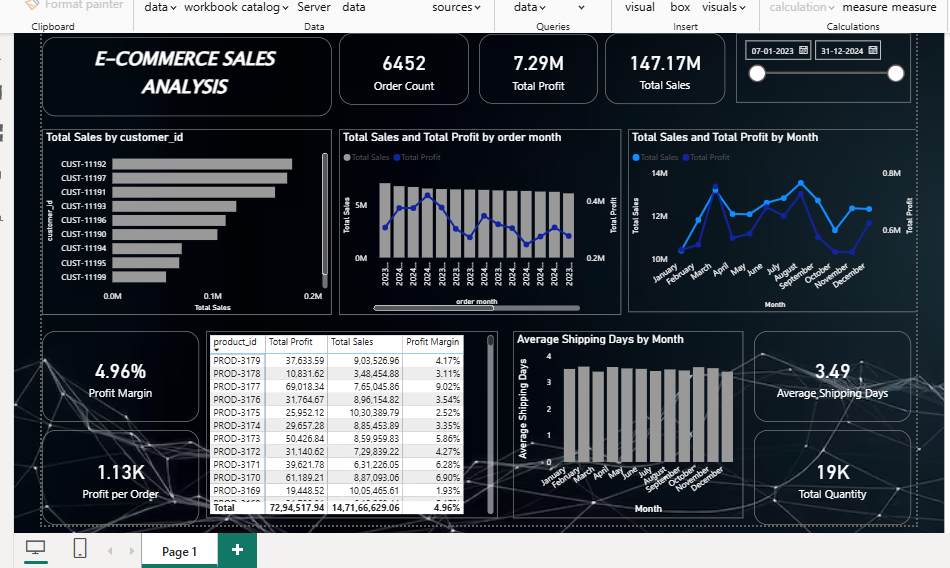

What the dashboard file says about the page in this screenshot:
{"tool":"powerbi","page":{"name":"Page 1","canvas":[1280,720],"ordinal":0},"visuals":[{"type":"card","fields":{"Values":["orders.Total Profit"]},"box":[639.5,1.5,174.1,102.4],"z":0},{"type":"card","fields":{"Values":["orders.Total Sales"]},"box":[823.9,0,175.6,103.9],"z":1000},{"type":"card","fields":{"Values":["orders.Order Count"]},"box":[434.6,0,190.2,105.4],"z":2000},{"type":"card","fields":{"Values":["orders.Total Quantity"]},"box":[1042,581,229.8,139],"z":3000},{"type":"card","fields":{"Values":["orders.Profit Margin"]},"box":[0,436.1,229.8,133.2],"z":4000},{"type":"card","fields":{"Values":["orders.Profit per Order"]},"box":[0,581,229.8,139],"z":5000},{"type":"card","fields":{"Values":["orders.Average Shipping Days"]},"box":[1042,436.1,229.8,133.2],"z":6000},{"type":"lineChart","fields":{"Category":["orders.order_date.Variation.Date Hierarchy.Month"],"Y":["orders.Total Sales"],"Y2":["orders.Total Profit"]},"box":[857.6,140.5,422.9,267.8],"z":7000},{"type":"pivotTable","fields":{"Rows":["orders.product_id"],"Values":["orders.Total Profit","orders.Total Sales","orders.Profit Margin"]},"box":[240,436.1,427.3,273.7],"z":8000},{"type":"slicer","fields":{"Values":["orders.order_date"]},"box":[1015.6,0,256.1,102.4],"z":9000},{"type":"barChart","fields":{"Y":["orders.Total Sales"],"Category":["orders.customer_id"]},"box":[0,140.5,424.4,272.2],"z":10000},{"type":"lineStackedColumnComboChart","fields":{"Y":["orders.Total Sales"],"Y2":["orders.Total Profit"],"Category":["orders.order month"]},"box":[434.6,140.5,412.7,272.2],"z":11000},{"type":"columnChart","fields":{"Category":["orders.order_date.Variation.Date Hierarchy.Month"],"Y":["orders.Average Shipping Days"]},"box":[689.3,436.1,336.6,273.7],"z":12000},{"type":"textbox","box":[0,5.9,424.4,115.6],"z":13000}]}

Visuals, with their boxes on the page's 1280x720 design canvas (x1, y1, x2, y2). These are canvas units, not pixel positions in the 950x568 screenshot, which may show the page scaled, cropped or inside an application window:
card - orders.Total Profit: pyautogui.locateOnScreen(640, 2, 814, 104)
card - orders.Total Sales: pyautogui.locateOnScreen(824, 0, 1000, 104)
card - orders.Order Count: pyautogui.locateOnScreen(435, 0, 625, 105)
card - orders.Total Quantity: pyautogui.locateOnScreen(1042, 581, 1272, 720)
card - orders.Profit Margin: pyautogui.locateOnScreen(0, 436, 230, 569)
card - orders.Profit per Order: pyautogui.locateOnScreen(0, 581, 230, 720)
card - orders.Average Shipping Days: pyautogui.locateOnScreen(1042, 436, 1272, 569)
lineChart - orders.order_date.Variation.Date Hierarchy.Month x orders.Total Sales: pyautogui.locateOnScreen(858, 140, 1280, 408)
pivotTable - orders.product_id x orders.Total Profit: pyautogui.locateOnScreen(240, 436, 667, 710)
slicer - orders.order_date: pyautogui.locateOnScreen(1016, 0, 1272, 102)
barChart - orders.Total Sales x orders.customer_id: pyautogui.locateOnScreen(0, 140, 424, 413)
lineStackedColumnComboChart - orders.Total Sales x orders.Total Profit: pyautogui.locateOnScreen(435, 140, 847, 413)
columnChart - orders.order_date.Variation.Date Hierarchy.Month x orders.Average Shipping Days: pyautogui.locateOnScreen(689, 436, 1026, 710)
textbox: pyautogui.locateOnScreen(0, 6, 424, 122)
